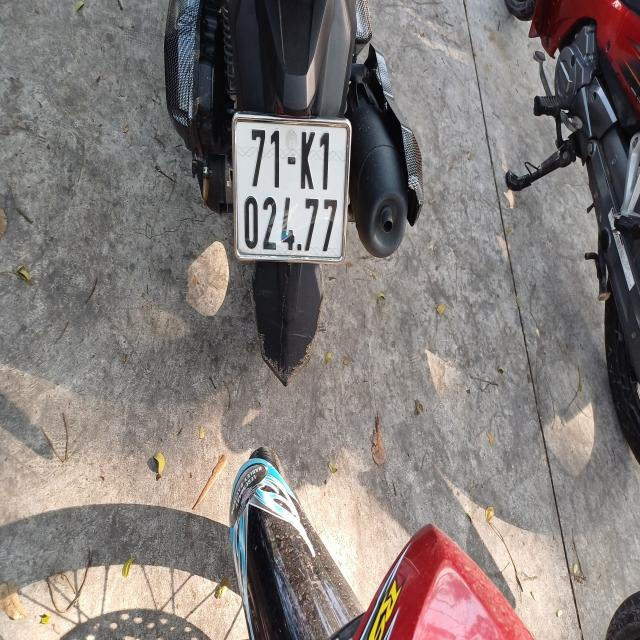0: (244, 190, 259, 254)
1: (269, 126, 282, 192), (319, 130, 331, 190)
2: (263, 197, 278, 254)
4: (281, 194, 296, 249)
7: (250, 125, 266, 189), (321, 197, 339, 253), (304, 199, 319, 250)
K: (297, 126, 317, 192)
